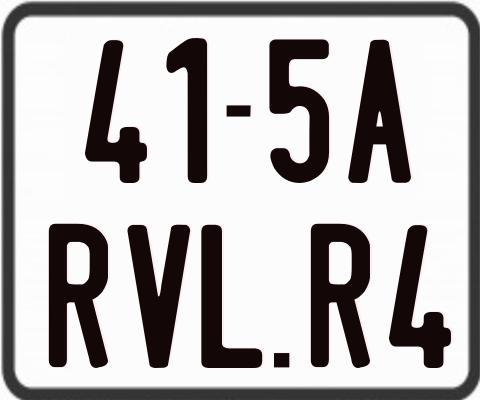1: (164, 36, 209, 185)
4: (388, 223, 455, 367), (84, 40, 149, 188)
5: (266, 37, 328, 185)
A: (345, 38, 414, 181)
L: (198, 225, 259, 370)
R: (47, 223, 106, 372), (309, 221, 369, 365)
V: (126, 224, 193, 373)
